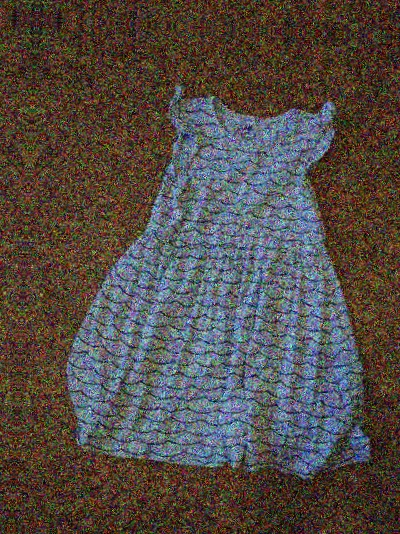Dress: (47, 42, 400, 501), (71, 0, 400, 16), (0, 21, 1, 480)
